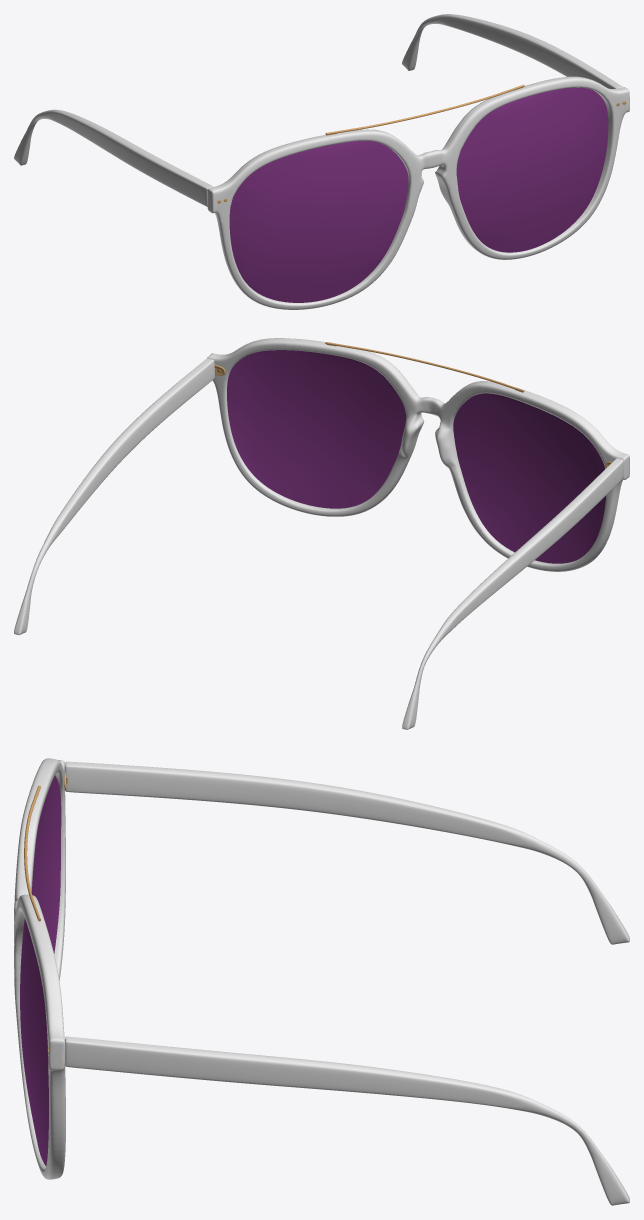
File: sunR1.glb
3 views of the same model, one above another, from view 1: azimuth 30°, elevation 25°; view 2: azimuth 150°, elevation 25°; view 3: azimuth 270°, elevation 25° (orthographic). The views are drawn at different scales.
Parts seen in each view (by area): view 1: lens, frame, arm, cross wire; view 2: lens, frame, arm, cross wire; view 3: arm, frame, lens.
Boxes of the visible parts, bbox=[...] form: lens: bbox=[229, 87, 608, 302]; frame: bbox=[207, 76, 629, 309]; arm: bbox=[14, 14, 622, 206]; cross wire: bbox=[325, 84, 524, 135]; lens: bbox=[227, 350, 605, 563]; frame: bbox=[207, 338, 629, 571]; arm: bbox=[14, 358, 623, 729]; cross wire: bbox=[325, 342, 524, 392]; arm: bbox=[65, 761, 629, 1205]; frame: bbox=[14, 758, 65, 1179]; lens: bbox=[20, 775, 61, 1165].
Size of the model in its own units: 4.4 by 1.71 by 4.01.
